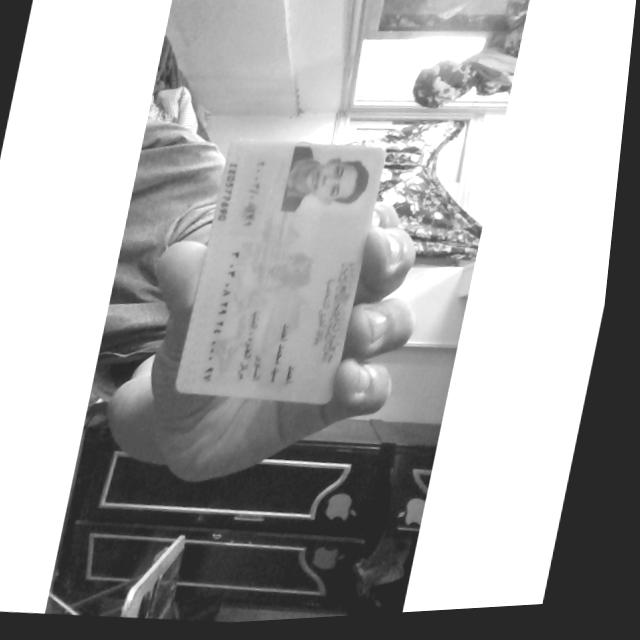id_card: (175, 139, 384, 404)
